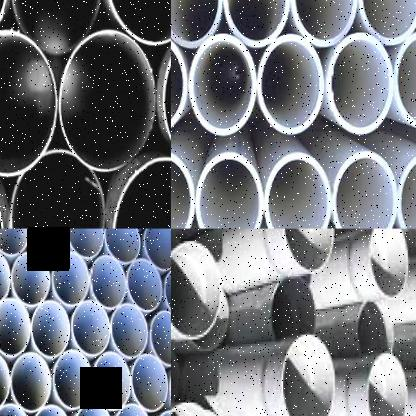pipe: (59, 30, 157, 173), (0, 29, 58, 176), (10, 149, 106, 229), (327, 33, 394, 134), (190, 34, 256, 136), (258, 34, 324, 136), (171, 237, 222, 340), (264, 152, 332, 228), (196, 152, 264, 228), (332, 150, 396, 229), (277, 329, 334, 416), (10, 0, 100, 53), (112, 158, 171, 228), (265, 274, 319, 342), (365, 228, 410, 300), (223, 0, 289, 47), (290, 0, 357, 46), (279, 229, 339, 276), (106, 0, 171, 43), (366, 351, 408, 416), (353, 298, 397, 358), (357, 0, 415, 44), (170, 0, 222, 47), (11, 352, 52, 411), (53, 349, 92, 410), (30, 299, 70, 358), (393, 29, 416, 131), (92, 352, 130, 410), (72, 299, 110, 356), (110, 303, 148, 358), (12, 251, 50, 306), (132, 354, 168, 412), (52, 252, 90, 305), (89, 255, 126, 308), (126, 258, 162, 311), (171, 150, 195, 229), (0, 298, 30, 356), (171, 34, 187, 136), (396, 149, 416, 229), (104, 228, 141, 264), (149, 310, 171, 367), (143, 228, 171, 271), (66, 228, 105, 258), (30, 228, 67, 258), (0, 228, 30, 256), (171, 340, 181, 408), (74, 401, 114, 416), (0, 350, 9, 411), (0, 249, 10, 303), (31, 403, 71, 416), (114, 403, 153, 416), (0, 402, 31, 416), (164, 266, 171, 318)
